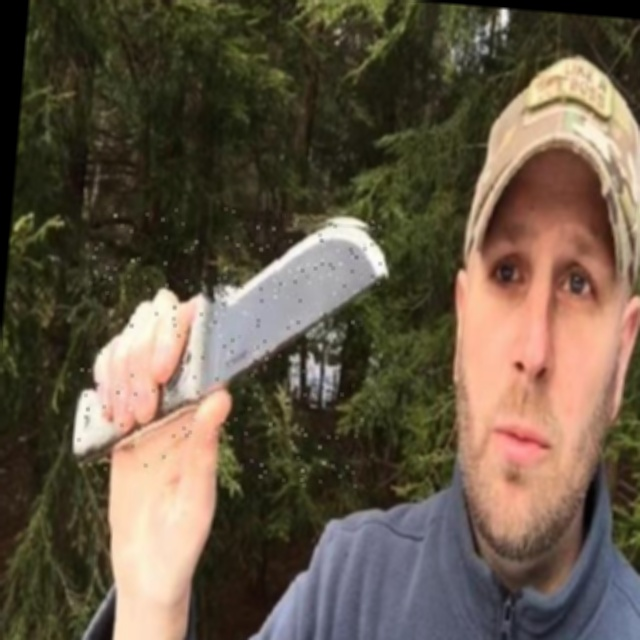Sharp-Object: (71, 195, 392, 491)
